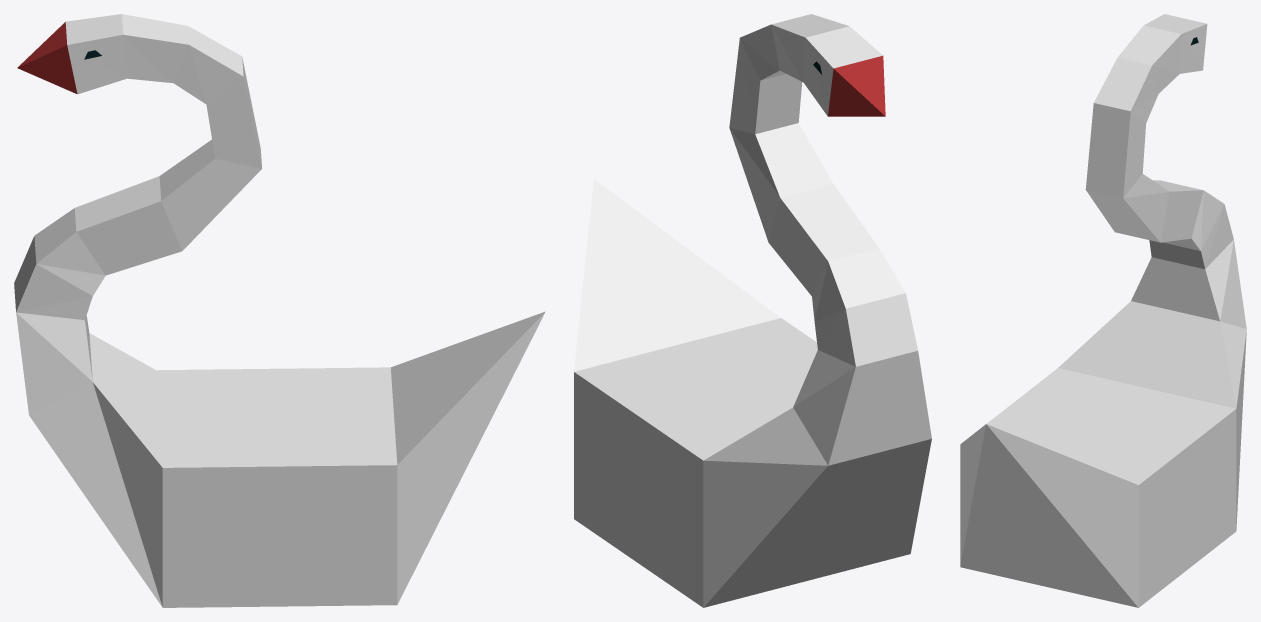
The model's file is SWAN.fbx.
The picture shows the model from 3 angles, left to right: view 1: azimuth 30°, elevation 25°; view 2: azimuth 150°, elevation 25°; view 3: azimuth 270°, elevation 25°; orthographic projection. The views are drawn at different scales.
Visible parts, largest first — view 1: Pyramid, Pyramid_1; view 2: Pyramid, Pyramid_1; view 3: Pyramid.
Boxes of the visible parts, x1,y1,x2,y2 form: Pyramid: (14, 14, 545, 607); Pyramid_1: (17, 22, 77, 93); Pyramid: (574, 14, 931, 607); Pyramid_1: (828, 55, 885, 116); Pyramid: (960, 14, 1246, 607).
Size of the model in its own units: 77.83 by 94.97 by 52.58.
1 material, 1 textured.
